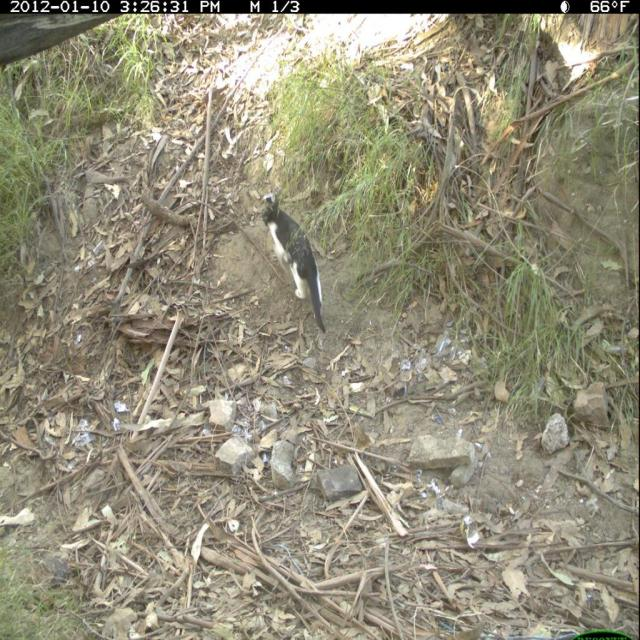cat: (257, 189, 337, 340)
